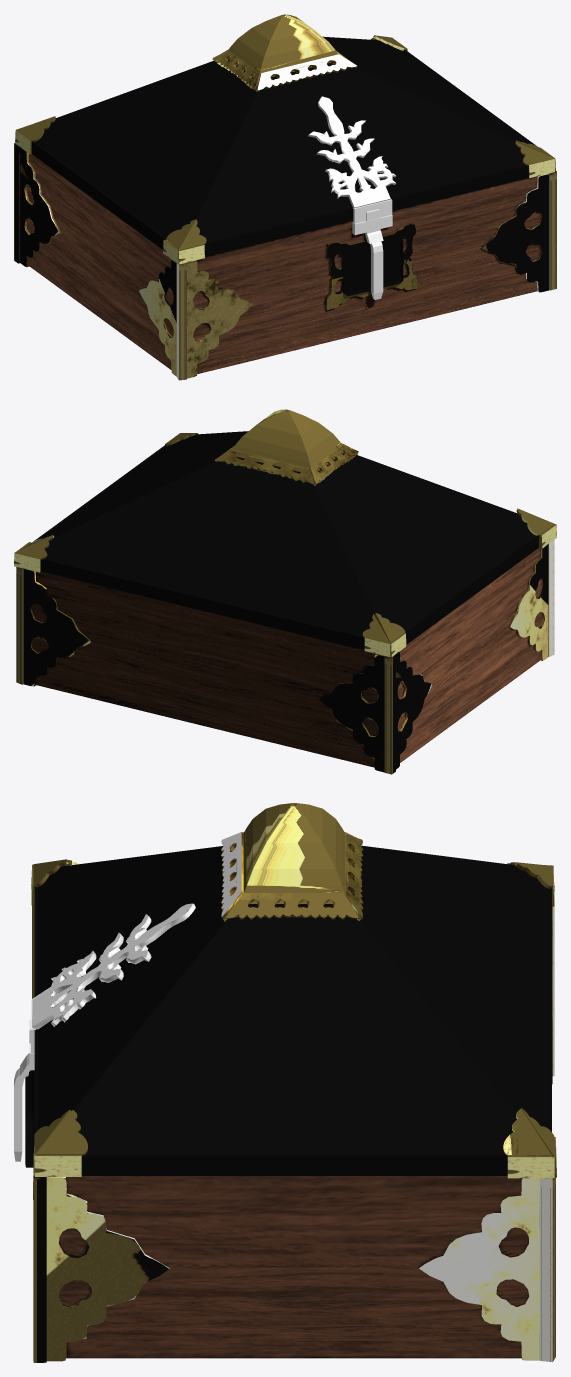
Rendered from GetSetBox.gltf.
3 views of the same model, one above another, from view 1: azimuth 30°, elevation 25°; view 2: azimuth 150°, elevation 25°; view 3: azimuth 270°, elevation 25° (orthographic). The views are drawn at different scales.
Visible parts, largest first — view 1: Cube.001, Cube, Curve.003, Curve.001; view 2: Cube.001, Cube, Curve.003; view 3: Cube.001, Cube, Curve.003, Curve.001.
Boxes of the visible parts, x1,y1,x2,y2 form: Cube.001: (15,14,555,299); Cube: (24,152,542,374); Curve.003: (14,143,556,380); Curve.001: (325,223,417,310); Cube.001: (14,409,556,657); Cube: (30,548,544,767); Curve.003: (16,540,554,774); Cube.001: (14,803,556,1178); Cube: (59,1176,529,1358); Curve.003: (32,885,555,1362); Curve.001: (25,1070,34,1199).
Bounding box in the file's own units: 4.07 × 2.66 × 3.18.
Materials: 7 (6 with a texture image).
